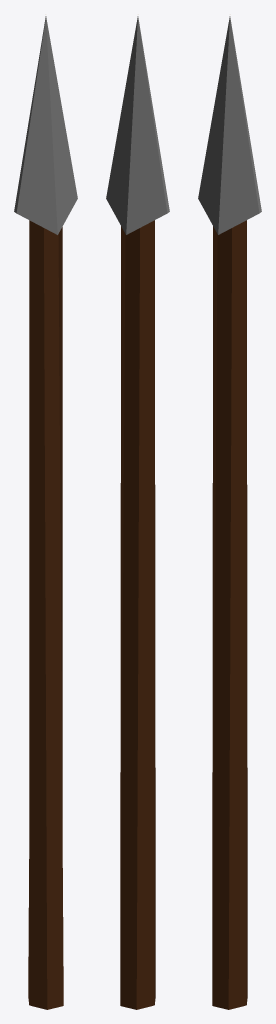
File: spear.fbx
3 renders of one model, left to right at view 1: azimuth 30°, elevation 25°; view 2: azimuth 150°, elevation 25°; view 3: azimuth 330°, elevation 25°, orthographic.
Parts seen in each view (by area): view 1: Cube; view 2: Cube; view 3: Cube.
Part boxes in pixels (<box>): Cube: <box>14,14,77,1009</box>; Cube: <box>106,14,169,1009</box>; Cube: <box>198,14,261,1009</box>.
Bounding box in the file's own units: 47.95 × 737 × 31.99.
